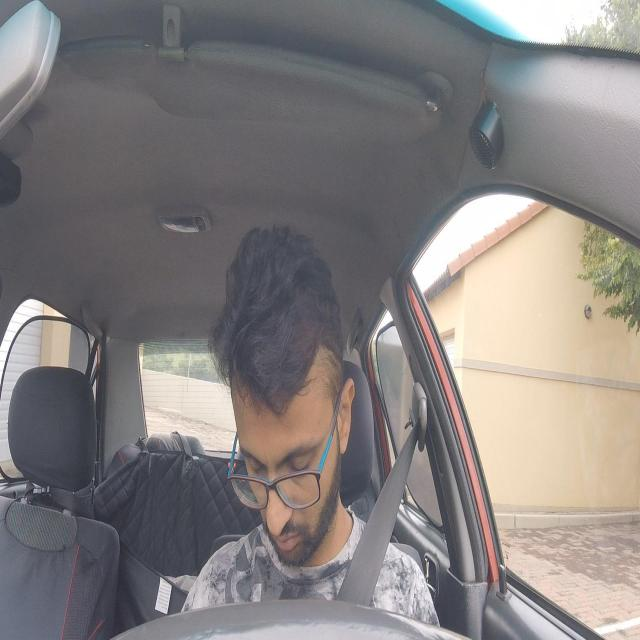close: (284, 436, 318, 483), (243, 448, 268, 478)
